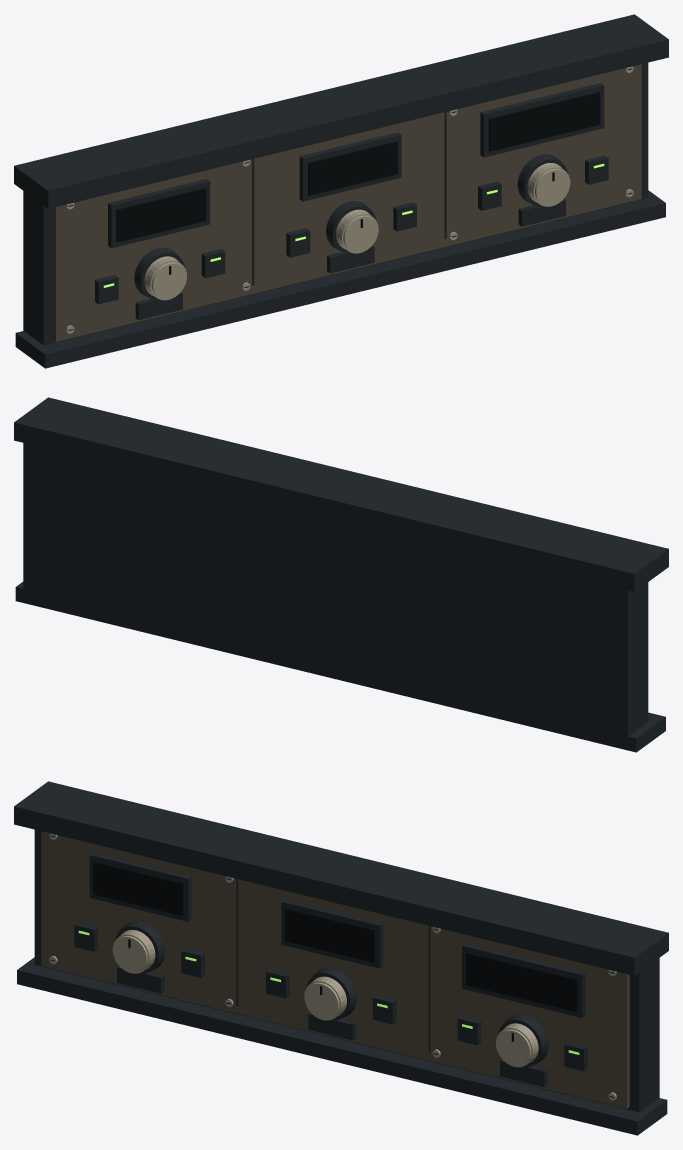
The model's file is cockpit.glb.
3 views of the same model, one above another, from view 1: azimuth 30°, elevation 25°; view 2: azimuth 150°, elevation 25°; view 3: azimuth 330°, elevation 25° (orthographic).
Parts seen in each view (by area): view 1: mcp_face, glareshield, lower_sill, mcp_chassis, altitude_display, speed_display, heading_display, altitude_bezel, speed_knob, heading_knob, altitude_knob, speed_bezel (+10 smaller); view 2: mcp_chassis, glareshield, lower_sill; view 3: mcp_face, glareshield, lower_sill, mcp_chassis, altitude_display, speed_display, heading_display, heading_knob, altitude_bezel, altitude_knob, speed_knob, speed_bezel (+10 smaller).
Boxes of the visible parts, left/top/right/bottom form: mcp_face: left=53, top=64, right=641, bottom=341; glareshield: left=14, top=14, right=668, bottom=208; lower_sill: left=15, top=190, right=665, bottom=368; mcp_chassis: left=23, top=62, right=648, bottom=345; altitude_display: left=488, top=92, right=600, bottom=151; speed_display: left=116, top=188, right=206, bottom=242; heading_display: left=308, top=141, right=397, bottom=195; altitude_bezel: left=480, top=83, right=604, bottom=157; speed_knob: left=134, top=247, right=186, bottom=300; heading_knob: left=326, top=201, right=378, bottom=253; altitude_knob: left=517, top=154, right=570, bottom=206; speed_bezel: left=108, top=179, right=210, bottom=248; mcp_chassis: left=23, top=443, right=648, bottom=737; glareshield: left=14, top=397, right=668, bottom=591; lower_sill: left=15, top=582, right=665, bottom=752; mcp_face: left=41, top=831, right=629, bottom=1108; glareshield: left=14, top=781, right=668, bottom=975; lower_sill: left=17, top=957, right=667, bottom=1135; mcp_chassis: left=34, top=829, right=659, bottom=1112; altitude_display: left=466, top=952, right=577, bottom=1012; speed_display: left=93, top=861, right=183, bottom=915; heading_display: left=285, top=908, right=374, bottom=962; heading_knob: left=304, top=968, right=356, bottom=1020; altitude_bezel: left=462, top=943, right=585, bottom=1017; altitude_knob: left=496, top=1014, right=548, bottom=1067; speed_knob: left=112, top=921, right=165, bottom=973; speed_bezel: left=89, top=852, right=191, bottom=921.
Size of the model in its own units: 11.5 by 3.18 by 1.21.
